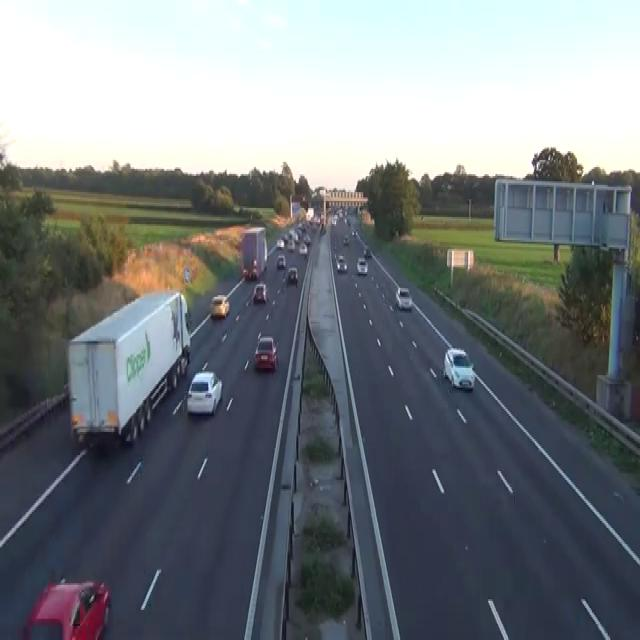Car: (23, 578, 111, 638), (186, 370, 222, 416), (443, 347, 475, 391), (254, 334, 278, 372), (210, 294, 229, 318), (395, 286, 412, 310), (242, 258, 258, 279), (253, 283, 267, 302), (335, 252, 347, 272), (287, 265, 298, 283), (356, 256, 367, 274), (276, 254, 285, 268), (298, 242, 307, 256), (363, 245, 371, 258), (276, 238, 284, 249), (242, 267, 249, 279), (303, 233, 311, 243), (287, 240, 294, 251), (319, 224, 326, 235), (343, 233, 349, 245), (313, 215, 320, 224), (281, 233, 288, 242), (309, 222, 316, 230), (331, 217, 337, 226), (344, 217, 350, 226), (351, 228, 357, 235), (334, 243, 337, 250)
Truck: (67, 288, 191, 448), (240, 226, 267, 279)
